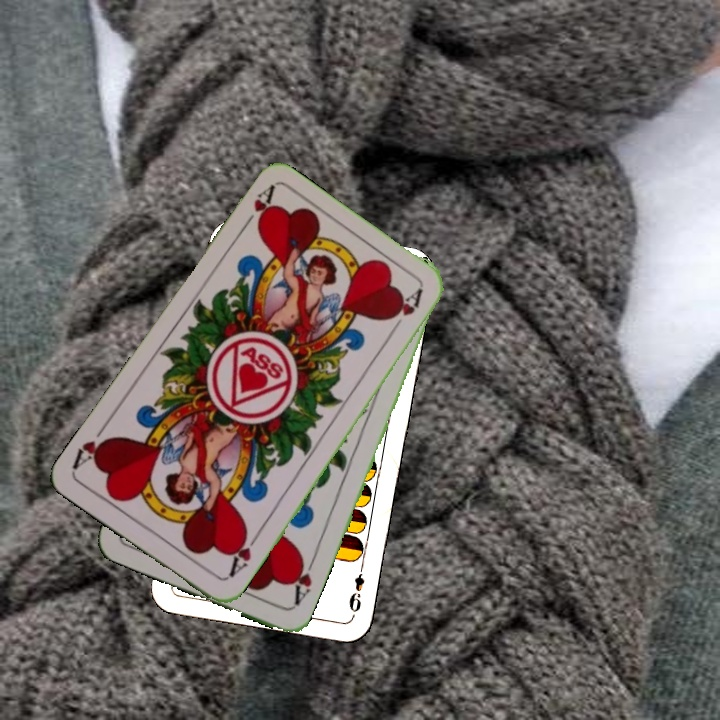E9: (344, 558, 367, 617)
HA: (224, 525, 263, 581), (236, 182, 277, 235), (286, 552, 319, 608)
